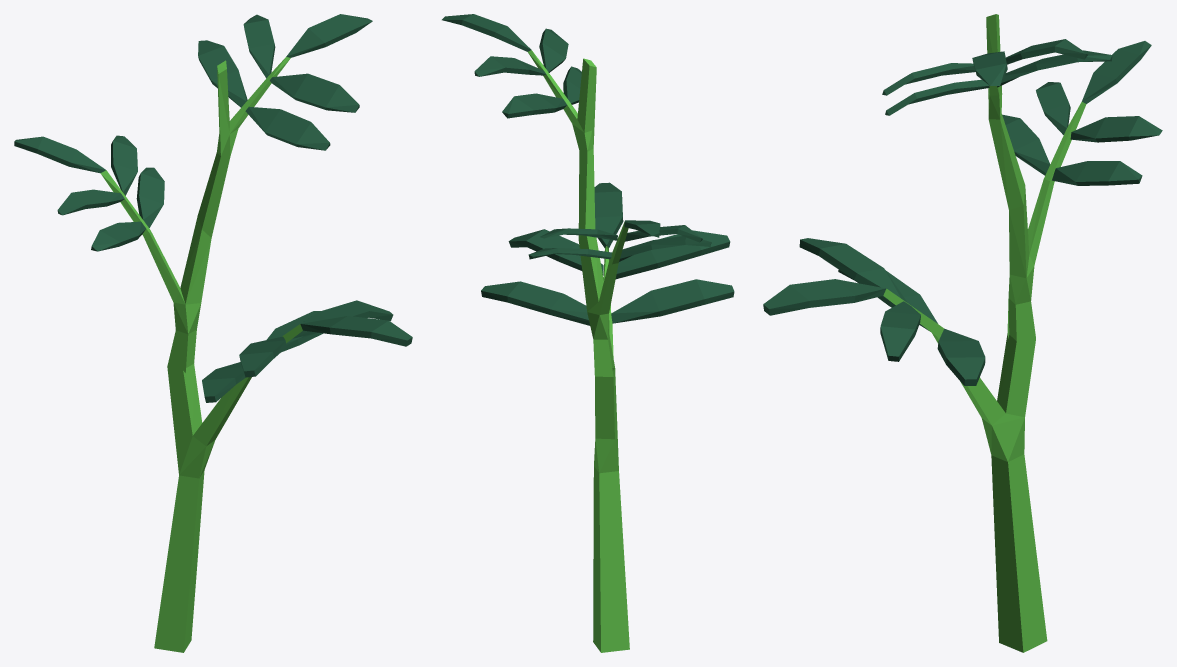
File: Pootato_Growing_S.fbx
3 views of the same model, side by side, from view 1: azimuth 30°, elevation 25°; view 2: azimuth 150°, elevation 25°; view 3: azimuth 270°, elevation 25° (orthographic). The views are drawn at different scales.
Parts seen in each view (by area): view 1: Pootato_Growing_S; view 2: Pootato_Growing_S; view 3: Pootato_Growing_S.
Part boxes in pixels (x1,y1,x2,y2): Pootato_Growing_S: (14, 14, 412, 652); Pootato_Growing_S: (442, 14, 734, 652); Pootato_Growing_S: (763, 14, 1162, 652).
Size of the model in its own units: 9.94 by 19.61 by 10.66.
